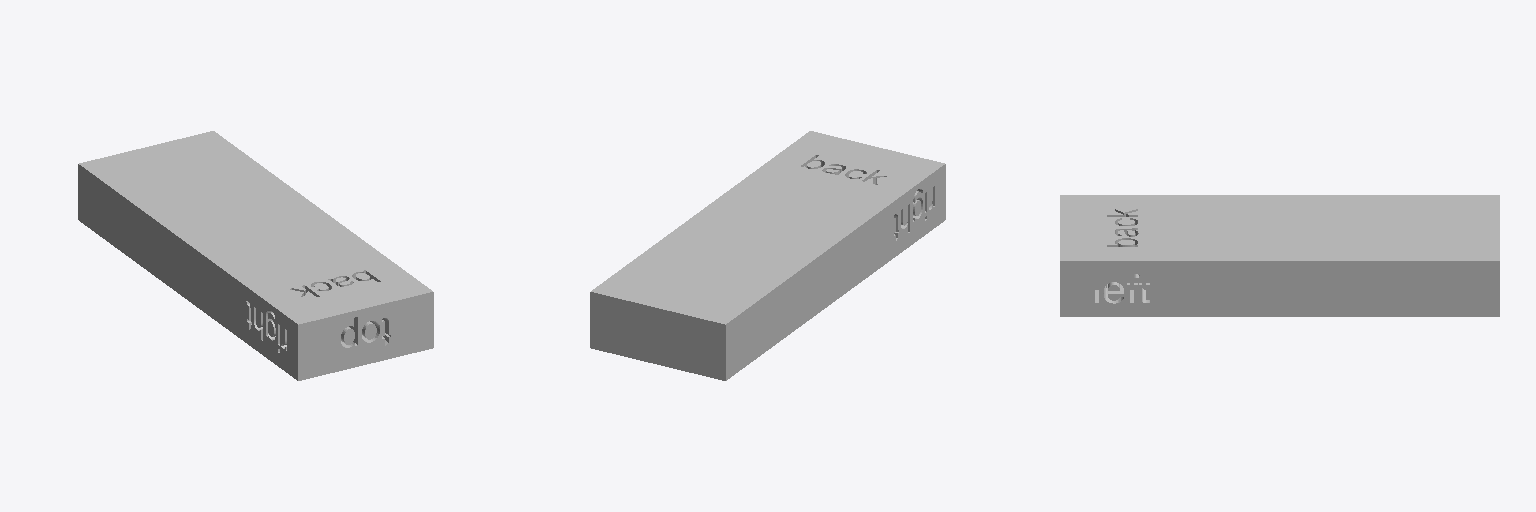
File: body.obj
3 views of the same model, side by side, from view 1: azimuth 30°, elevation 25°; view 2: azimuth 150°, elevation 25°; view 3: azimuth 270°, elevation 25° (orthographic).
Parts seen in each view (by area): view 1: Body1; view 2: Body1; view 3: Body1.
Boxes of the visible parts, x1=… form: Body1: x1=78, y1=131, x2=433, y2=380; Body1: x1=590, y1=131, x2=945, y2=380; Body1: x1=1060, y1=195, x2=1499, y2=316.
Size of the model in its own units: 0.5 by 0.2 by 1.41.